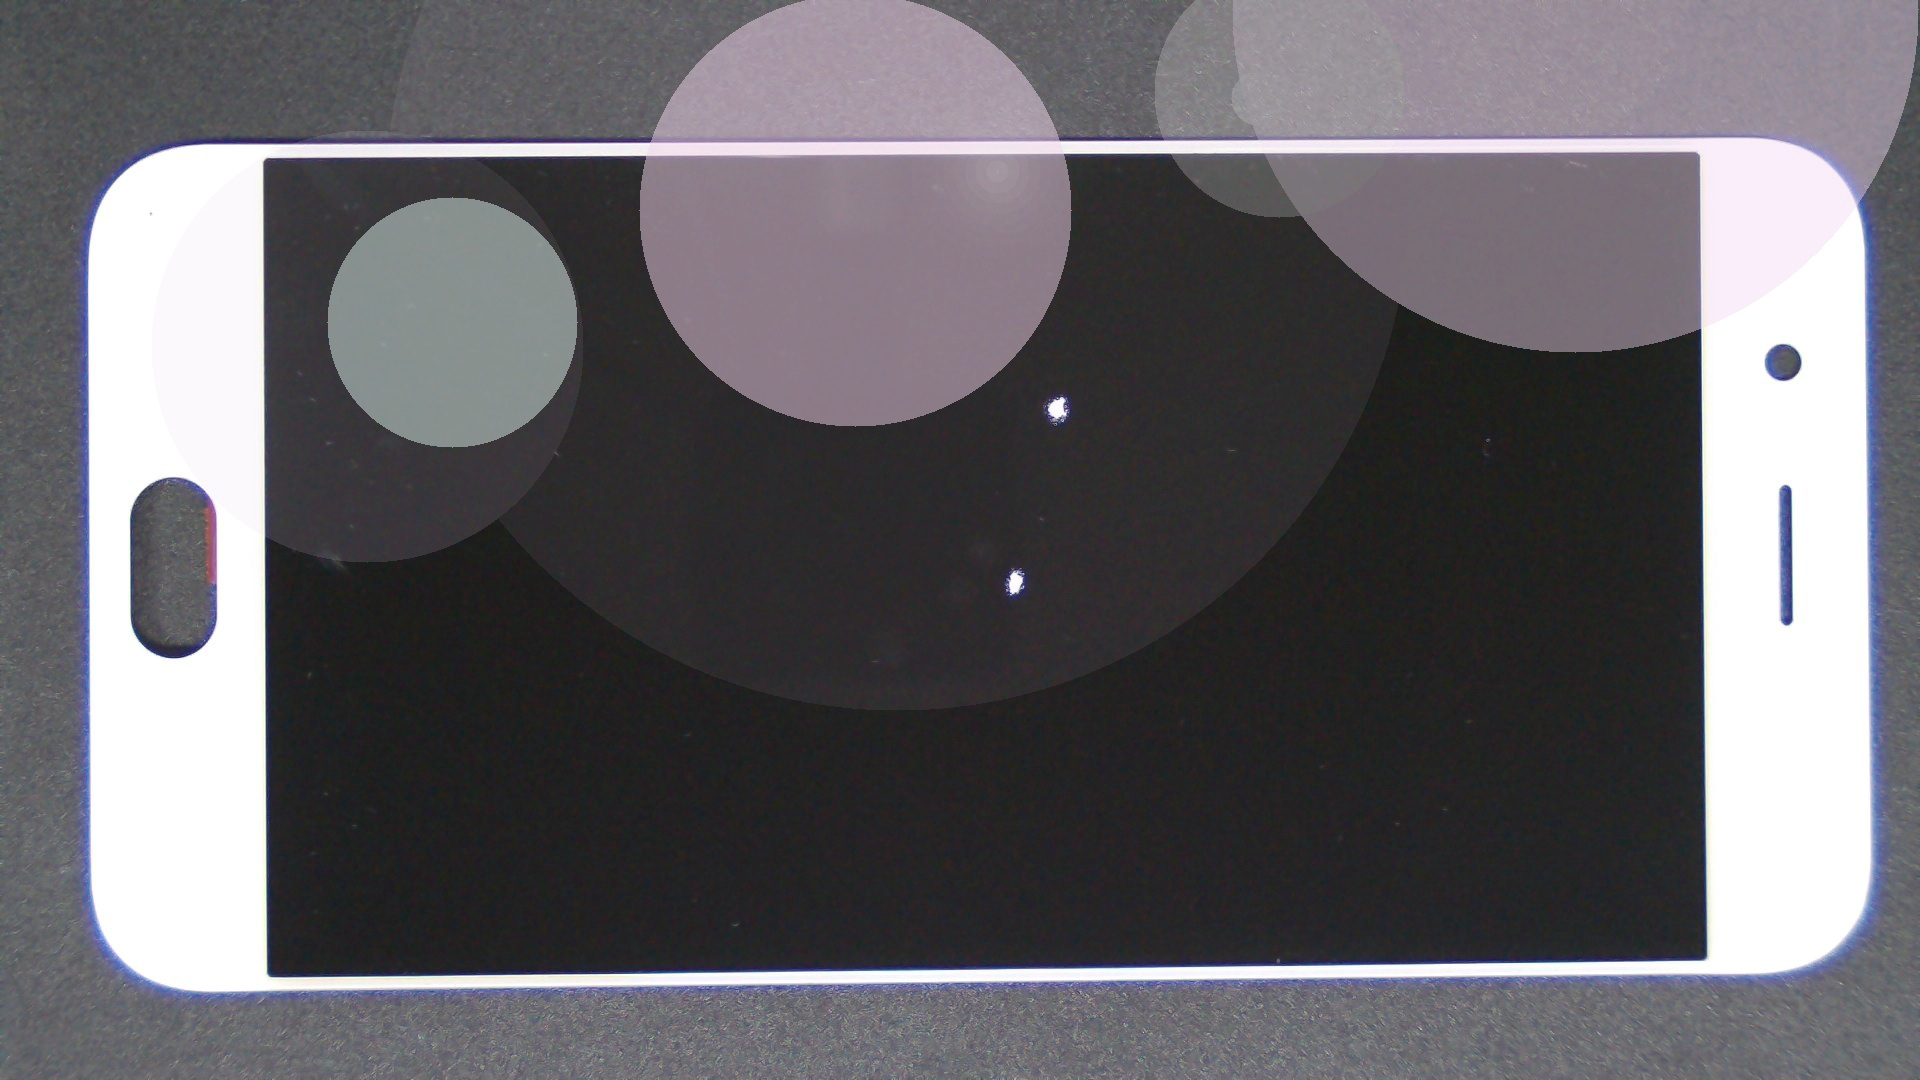oil: (506, 282, 1515, 851), (533, 196, 1596, 589)
